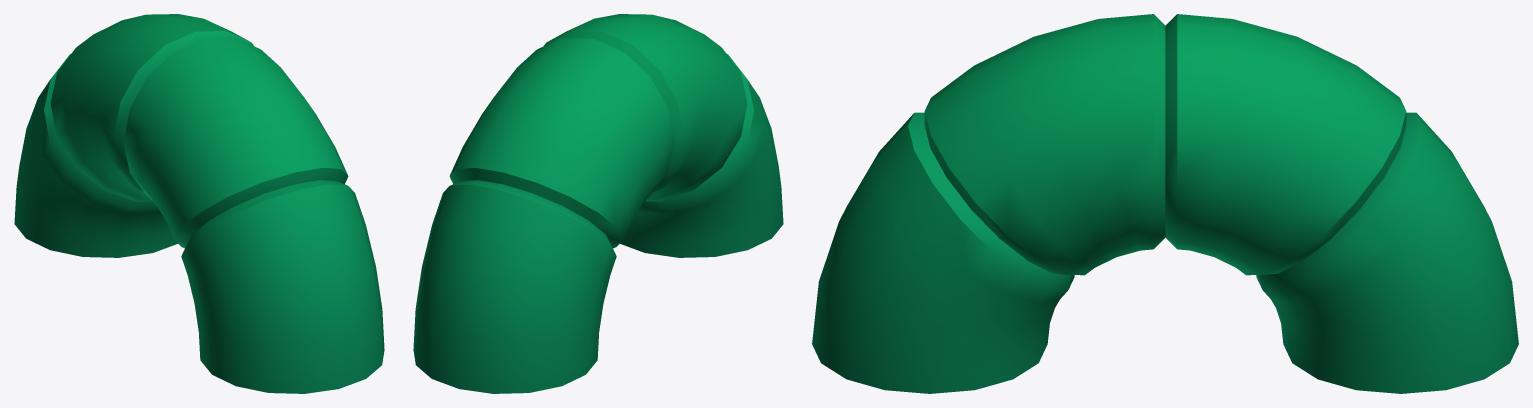
Rendered from kaykit_pipe_180_B_green.glb.
3 views of the same model, side by side, from view 1: azimuth 30°, elevation 25°; view 2: azimuth 150°, elevation 25°; view 3: azimuth 270°, elevation 25° (orthographic). The views are drawn at different scales.
Parts seen in each view (by area): view 1: pipe_180_B_green_visual; view 2: pipe_180_B_green_visual; view 3: pipe_180_B_green_visual.
Boxes of the visible parts, x1,y1,x2,y2 form: pipe_180_B_green_visual: (14,14,384,393); pipe_180_B_green_visual: (413,14,783,393); pipe_180_B_green_visual: (812,14,1518,393).
Size of what is drawn, in the model's own units: 2 by 2.99 by 6.
1 material, 1 textured.
